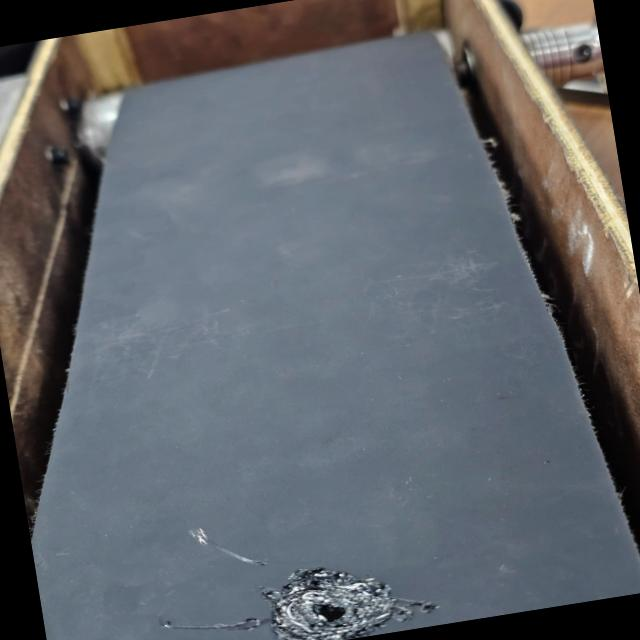punture: (160, 567, 439, 640), (189, 527, 266, 565)
